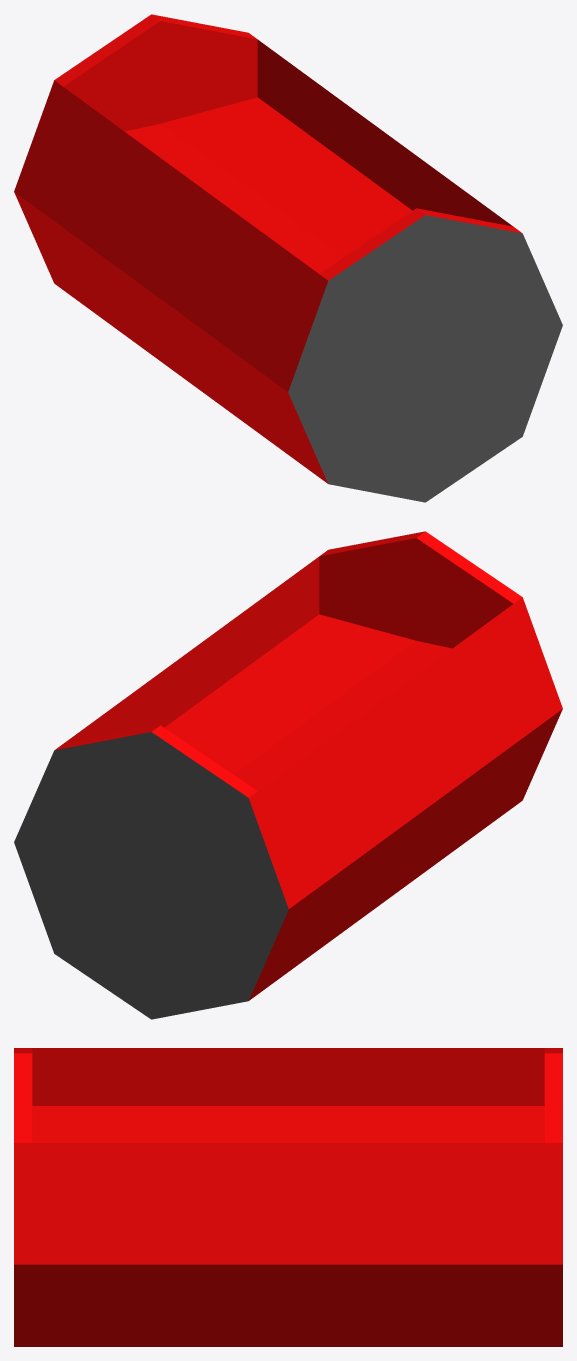
Rendered from CAN.FBX.
3 views of the same model, one above another, from view 1: azimuth 30°, elevation 25°; view 2: azimuth 150°, elevation 25°; view 3: azimuth 270°, elevation 25° (orthographic).
Parts seen in each view (by area): view 1: Cylinder001; view 2: Cylinder001; view 3: Cylinder001.
Part boxes in pixels (bbox=[...]): Cylinder001: bbox=[14, 14, 562, 502]; Cylinder001: bbox=[14, 531, 562, 1019]; Cylinder001: bbox=[14, 1048, 562, 1346].
Size of the model in its own units: 36.61 by 36.61 by 63.23.
